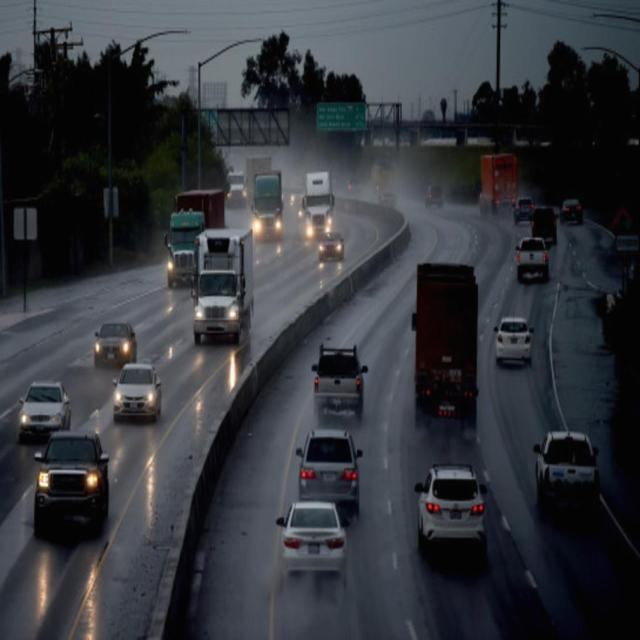Car: (32, 428, 110, 536), (414, 465, 490, 557), (533, 429, 601, 514), (296, 426, 363, 512), (277, 499, 348, 578), (310, 340, 368, 420), (17, 378, 72, 442), (112, 360, 162, 422), (92, 321, 137, 369), (495, 314, 533, 362), (514, 236, 550, 284), (530, 206, 557, 246), (317, 232, 345, 262), (560, 199, 584, 225), (512, 196, 534, 224), (425, 183, 444, 208), (378, 190, 397, 209)
Truck: (412, 264, 480, 438), (193, 226, 255, 347), (163, 193, 226, 290), (479, 153, 518, 215), (251, 169, 285, 240), (302, 172, 334, 237)
